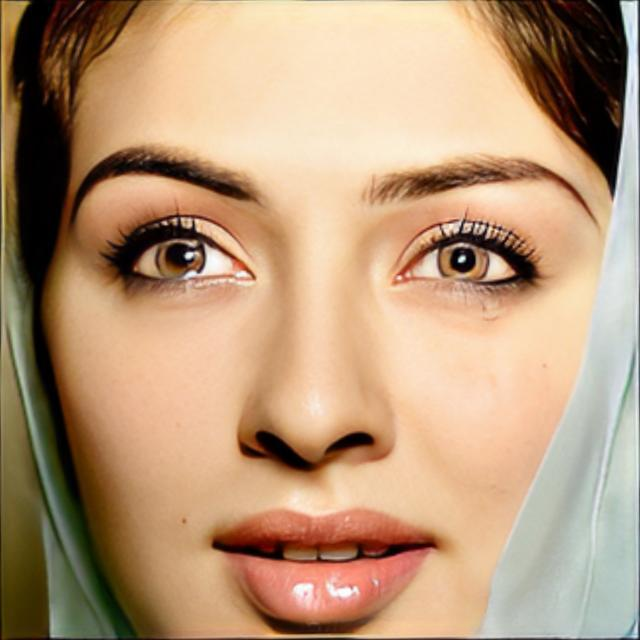surprise: (41, 0, 617, 640)
